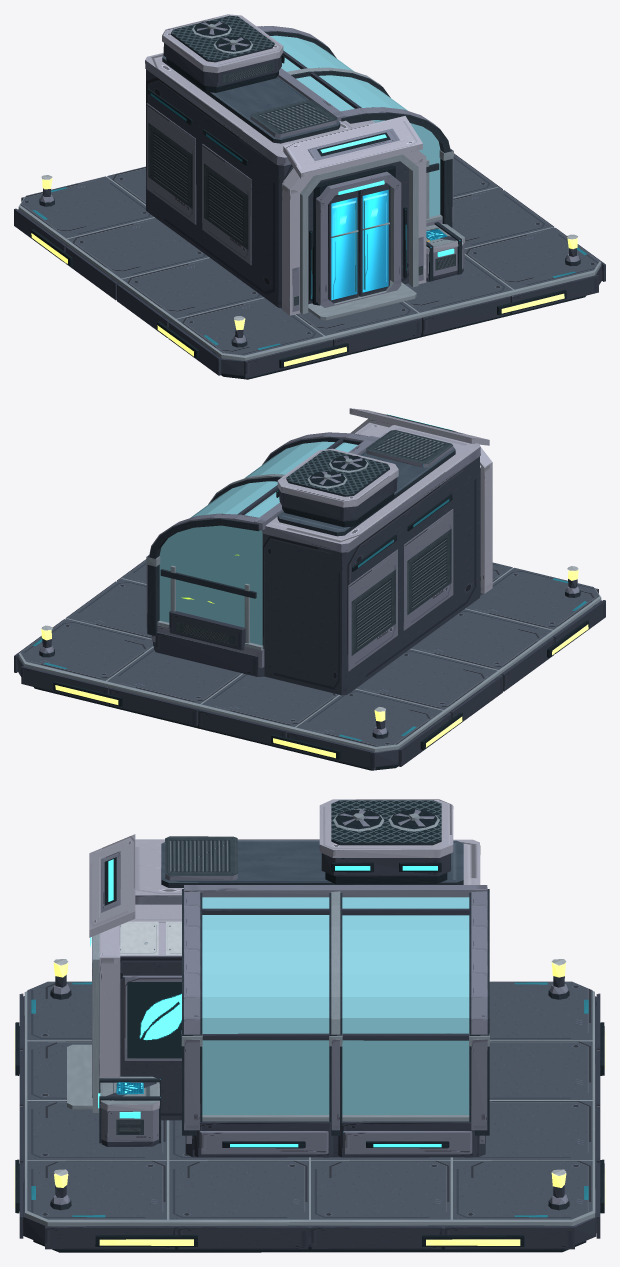
Rendered from GH01_GranjaHidroponicaBasica_Distancia.fbx.
The picture shows the model from 3 angles, top to bottom: view 1: azimuth 30°, elevation 25°; view 2: azimuth 150°, elevation 25°; view 3: azimuth 270°, elevation 25°; orthographic projection. The views are drawn at different scales.
Visible parts, largest first — view 1: EstructuraDistante_1, CristalDistante_1; view 2: EstructuraDistante_1, CristalDistante_1; view 3: EstructuraDistante_1, CristalDistante_1.
Part boxes in pixels (x1,y1,x2,y2): EstructuraDistante_1: [14, 14, 605, 379]; CristalDistante_1: [270, 35, 440, 217]; EstructuraDistante_1: [14, 408, 605, 770]; CristalDistante_1: [159, 441, 357, 645]; EstructuraDistante_1: [14, 799, 605, 1252]; CristalDistante_1: [202, 897, 469, 1114].
Size of the model in its own units: 5.71 by 3.05 by 5.73.
